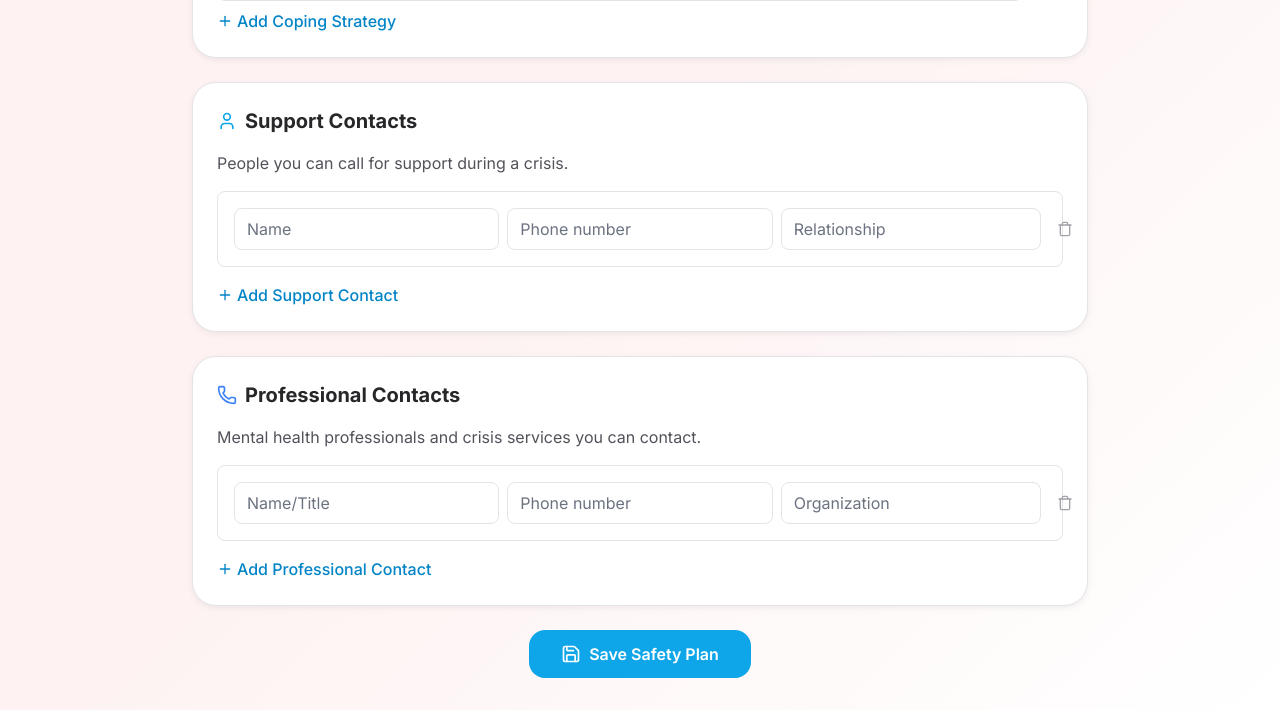
Test: SafetyPlanPage › handles professional contacts correctly
(page scrolled)
Type "Dr. Smith" into the field with placeholder "Name/Title" at (367,503), box [234,482,499,524]
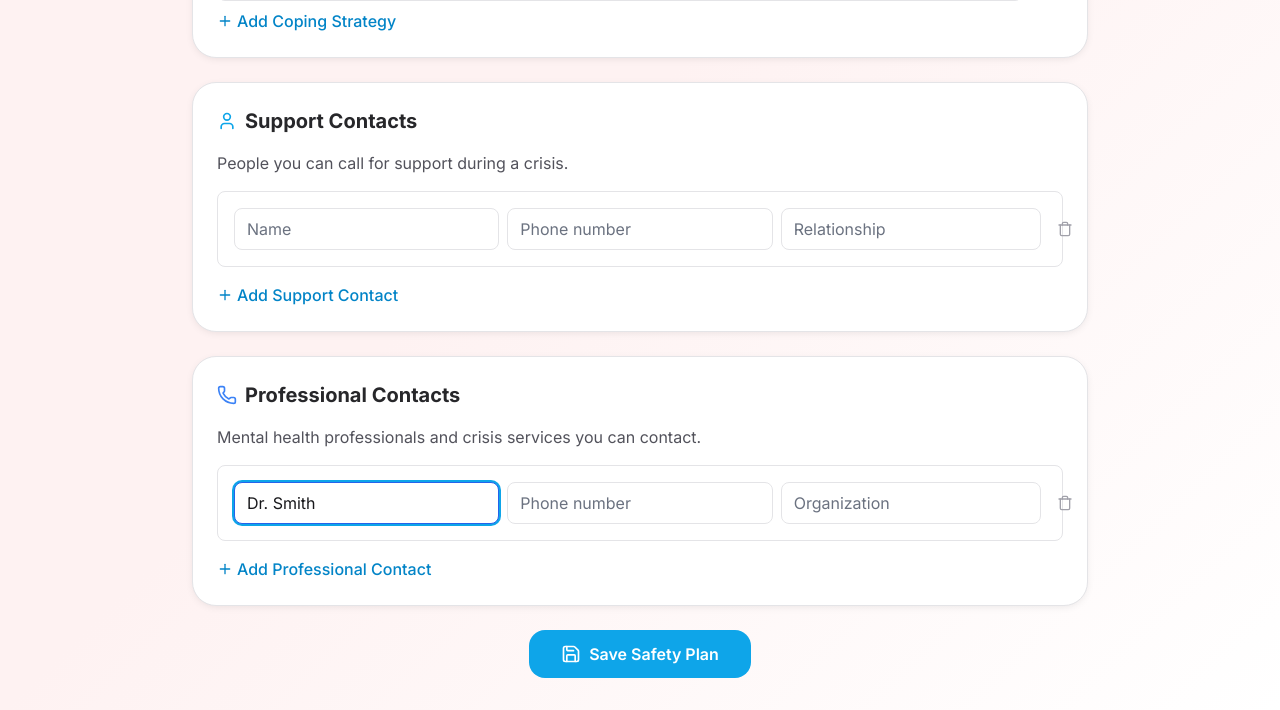
Type "555-9876" into the field with placeholder "Phone number" below "Professional Contacts" at (640,503), box [507,482,773,524]
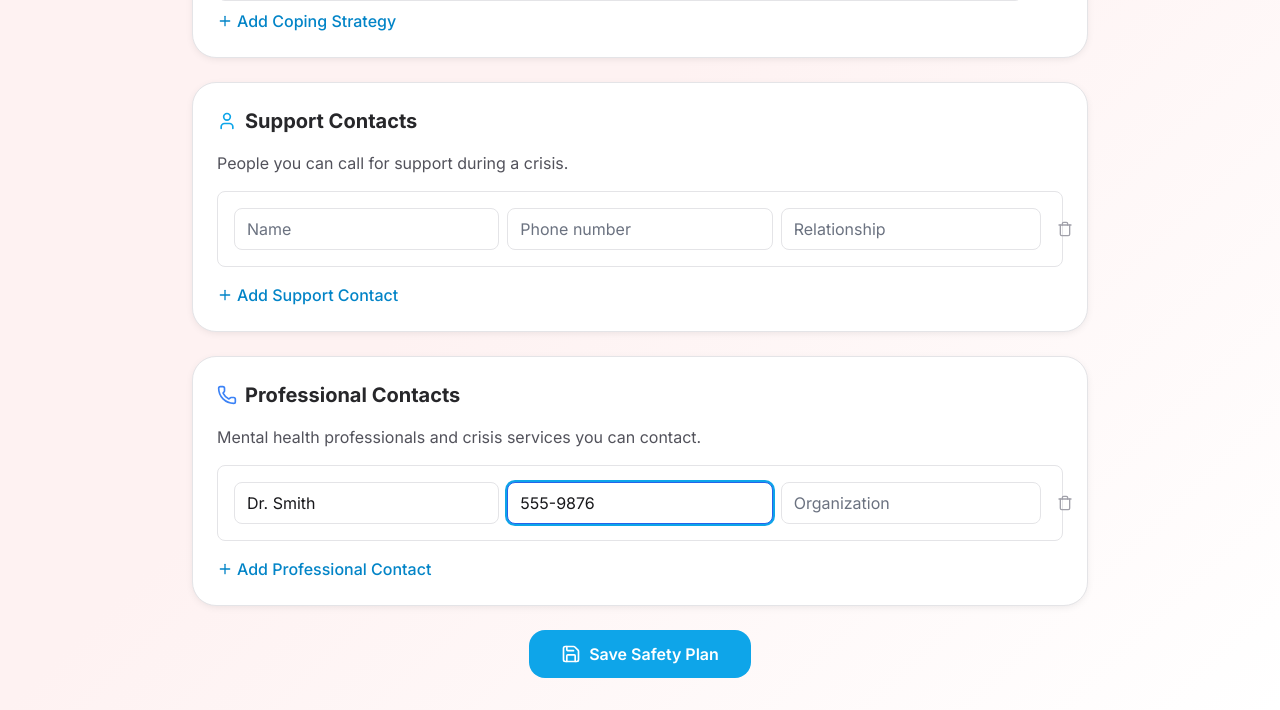
Type "Mental Health Clinic" into the field with placeholder "Organization" at (911,503), box [781,482,1041,524]
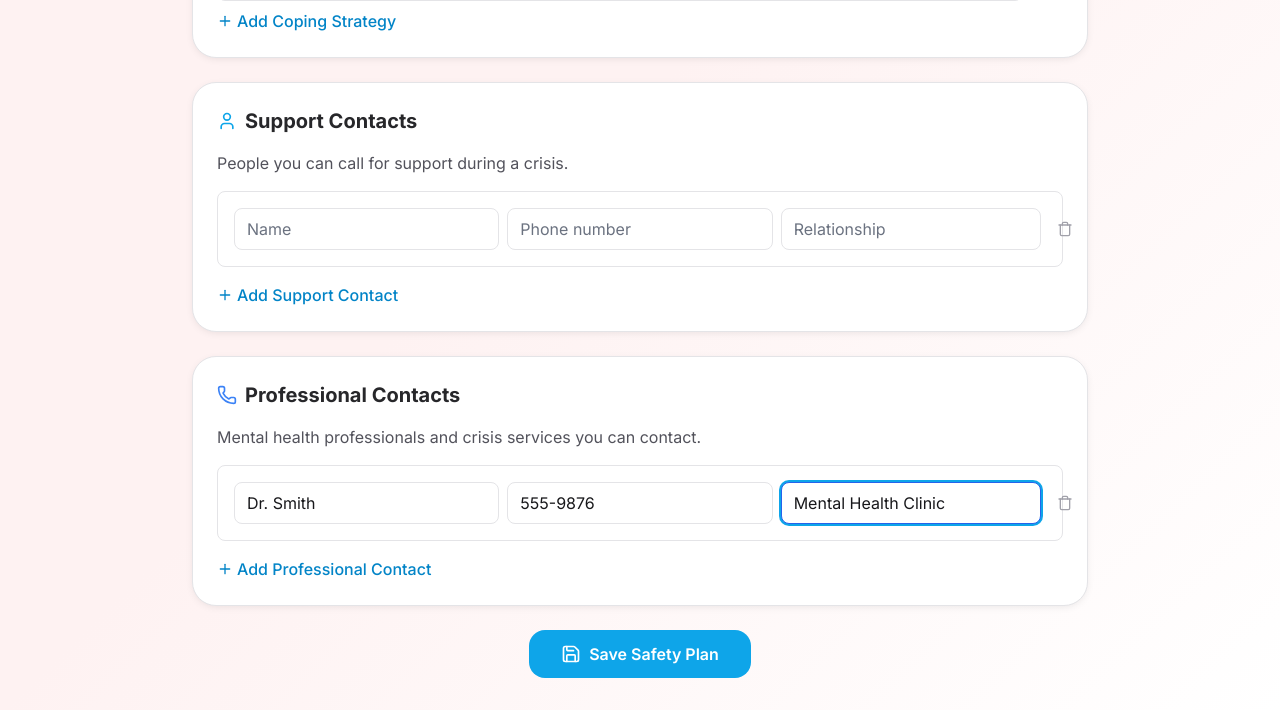
# Add another professional contact
Click the button "Add Professional Contact" at (324,569), box [217,557,431,581]
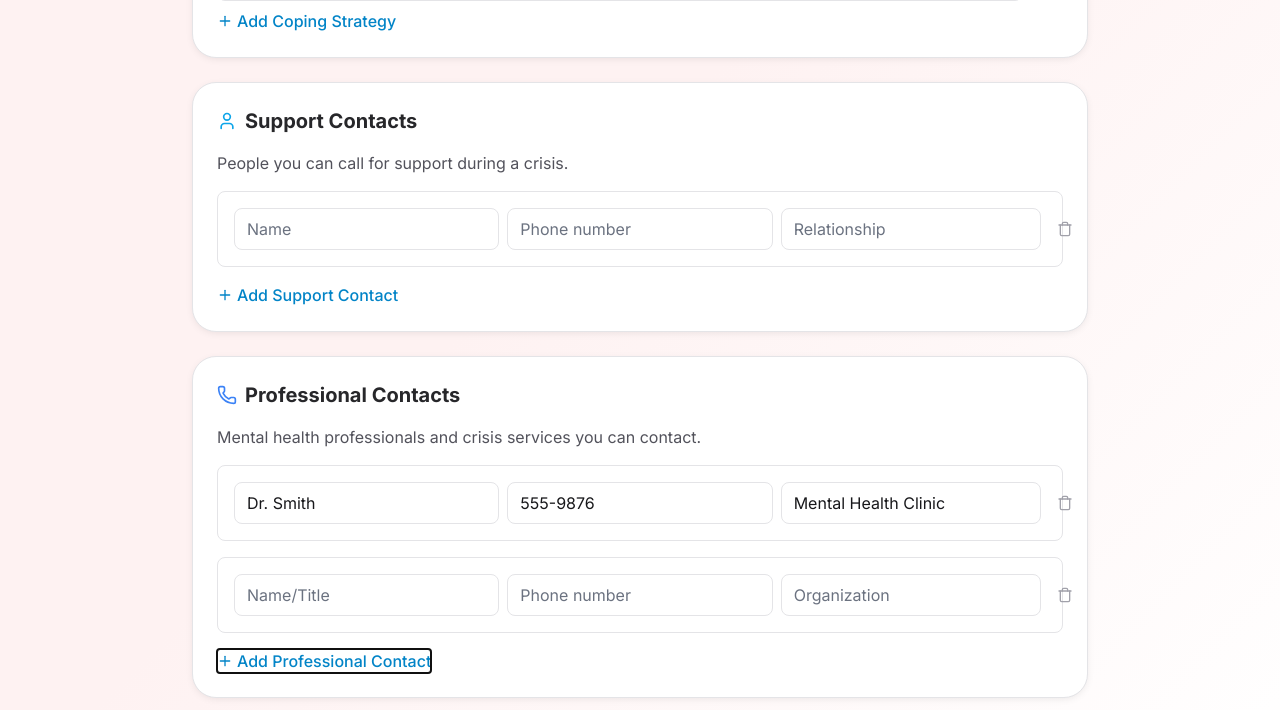
Now the number of fields with placeholder "Name/Title" is 2, box [234,482,499,524]; [234,574,499,616]
